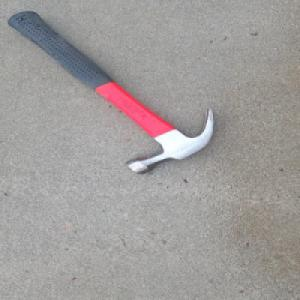Hammer: (19, 12, 218, 175)
